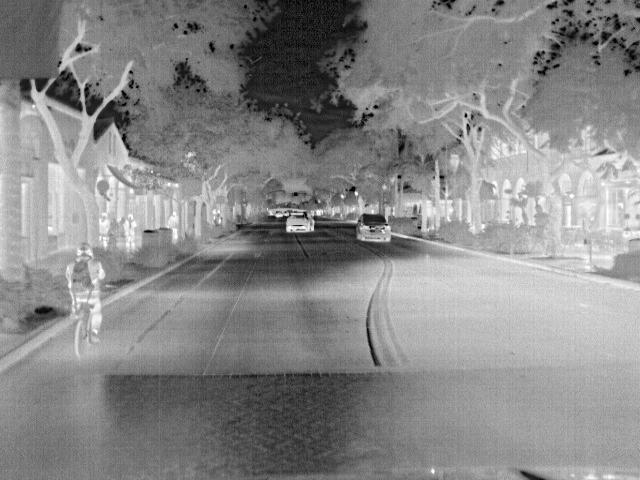car: (357, 213, 394, 243), (284, 210, 318, 232)
person: (69, 244, 107, 338), (92, 212, 114, 246), (123, 211, 140, 254), (165, 208, 182, 243)
